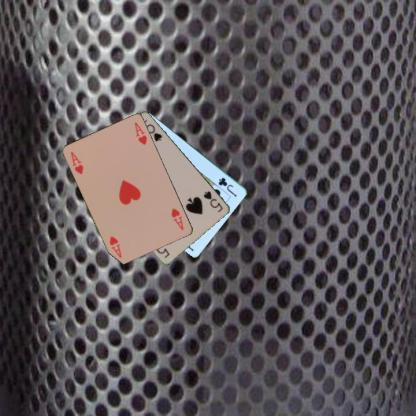5s: (201, 188, 224, 214)
Ah: (68, 149, 85, 176), (169, 206, 185, 232)
Jc: (216, 175, 238, 198)
